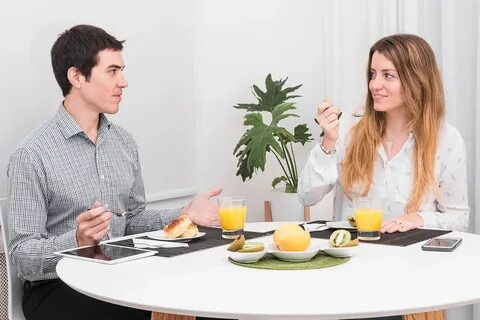awake: (5, 24, 152, 320), (326, 33, 470, 233)
